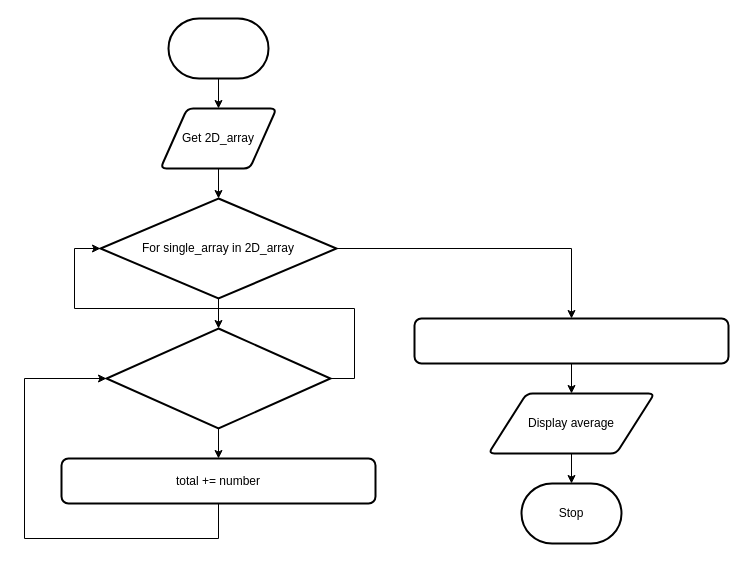
Image size: 747x564. Some labels were removed from this diagram. Each missing label, with the centre of its shape:
"average = total / (len(single_array) * len(2D_array))" belongs at (571,340).
"for number in single_array" belongs at (218,378).
"Start" belongs at (218,48).
